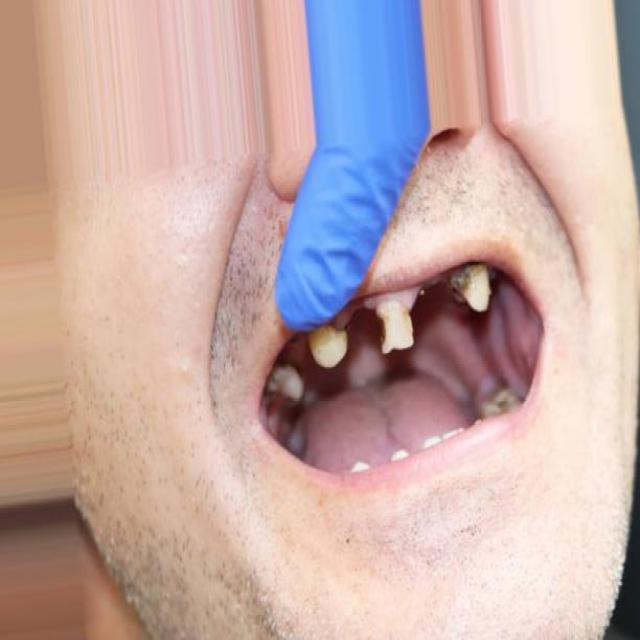caries: (366, 288, 424, 362)
